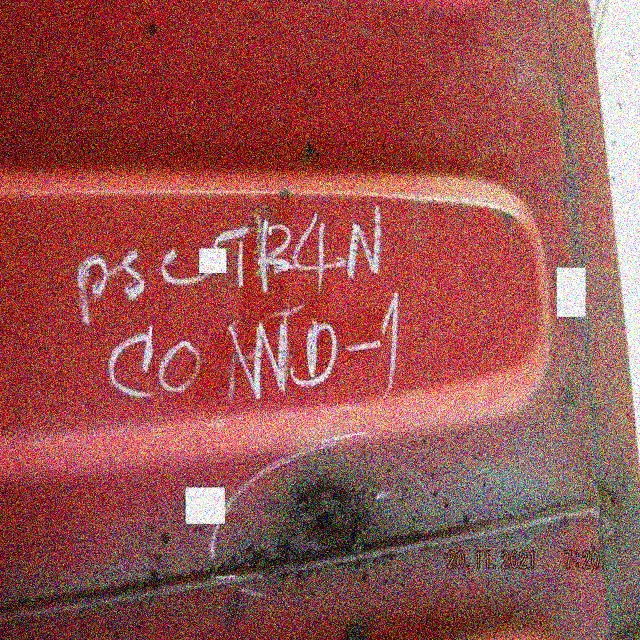Hole: (313, 509, 340, 539)
Rusty: (283, 483, 368, 562), (599, 490, 622, 543)
